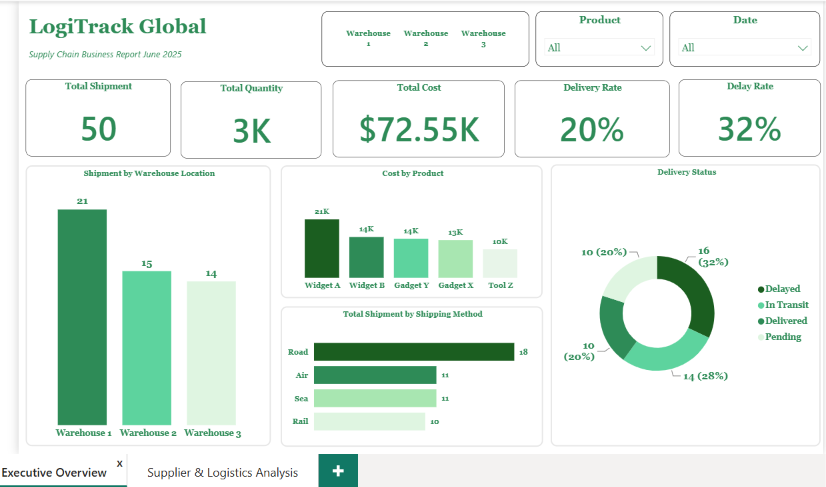

Layout of this report page (visuals, bound fields, positions):
{"tool":"powerbi","page":{"name":"Executive Overview","canvas":[1280,720],"ordinal":0},"visuals":[{"type":"textbox","box":[11.1,15.9,472.4,52.5],"z":0},{"type":"cardVisual","title":"Total Cost","fields":{"Data":["Sum(Supply_Chain___Logistics_Datase.Total Cost)"]},"box":[499.5,125.7,273.6,122.5],"z":1000},{"type":"cardVisual","title":"Total Quantity","fields":{"Data":["Sum(Supply_Chain___Logistics_Datase.Quantity)"]},"box":[257.7,127.2,224.3,122.5],"z":2000},{"type":"cardVisual","title":"Total Shipment","fields":{"Data":["Supply_Chain___Logistics_Datase.Total Shipment"]},"box":[11.1,124.1,230.6,122.5],"z":3000},{"type":"donutChart","title":"Delivery Status","fields":{"Category":["Supply_Chain___Logistics_Datase.Delivery Status"],"Y":["Supply_Chain___Logistics_Datase.Total Shipment"]},"box":[846.2,259.3,429.5,448.6],"z":4000},{"type":"clusteredColumnChart","title":"Shipment by Warehouse Location","fields":{"Category":["Supply_Chain___Logistics_Datase.Warehouse Location"],"Y":["Supply_Chain___Logistics_Datase.Total Shipment"]},"box":[11.1,260.9,389.7,447],"z":5000},{"type":"slicer","title":"Warehouse","fields":{"Values":["Supply_Chain___Logistics_Datase.Warehouse Location"]},"box":[481.5,16.7,330.1,87.8],"z":6000},{"type":"slicer","title":"Product","fields":{"Values":["Supply_Chain___Logistics_Datase.Product"]},"box":[822.2,16.7,202.9,87.8],"z":7000},{"type":"textbox","box":[11.1,68.4,1269.3,36.6],"z":8000},{"type":"slicer","title":"Date","fields":{"Values":["Supply_Chain___Logistics_Datase.Date"]},"box":[1035.7,16.7,239.2,87.8],"z":9000},{"type":"cardVisual","title":"Delivery Rate","fields":{"Data":["Supply_Chain___Logistics_Datase.Delivery Sucess Rate"]},"box":[788.9,125.7,246.5,122.5],"z":10000},{"type":"cardVisual","title":"Delay Rate","fields":{"Data":["Supply_Chain___Logistics_Datase.Delayed"]},"box":[1049.8,124.1,225.9,122.5],"z":11000},{"type":"clusteredColumnChart","title":"Cost by Product","fields":{"Category":["Supply_Chain___Logistics_Datase.Product"],"Y":["Sum(Supply_Chain___Logistics_Datase.Total Cost)"]},"box":[416.7,260.9,416.7,211.6],"z":12000},{"type":"barChart","fields":{"Category":["Supply_Chain___Logistics_Datase.Shipping Method"],"Y":["Supply_Chain___Logistics_Datase.Total Shipment"]},"box":[417,485,417,223],"z":14000}]}

Visuals, with their boxes on the page's 1280x720 design canvas (x1, y1, x2, y2). These are canvas units, not pixel positions in the 826x487 screenshot, which may show the page scaled, cropped or inside an application window:
textbox: BBox(11, 16, 484, 68)
"Total Cost" cardVisual: BBox(500, 126, 773, 248)
"Total Quantity" cardVisual: BBox(258, 127, 482, 250)
"Total Shipment" cardVisual: BBox(11, 124, 242, 247)
"Delivery Status" donutChart: BBox(846, 259, 1276, 708)
"Shipment by Warehouse Location" clusteredColumnChart: BBox(11, 261, 401, 708)
"Warehouse" slicer: BBox(482, 17, 812, 104)
"Product" slicer: BBox(822, 17, 1025, 104)
textbox: BBox(11, 68, 1280, 105)
"Date" slicer: BBox(1036, 17, 1275, 104)
"Delivery Rate" cardVisual: BBox(789, 126, 1035, 248)
"Delay Rate" cardVisual: BBox(1050, 124, 1276, 247)
"Cost by Product" clusteredColumnChart: BBox(417, 261, 833, 472)
barChart - Supply_Chain___Logistics_Datase.Shipping Method x Supply_Chain___Logistics_Datase.Total Shipment: BBox(417, 485, 834, 708)
